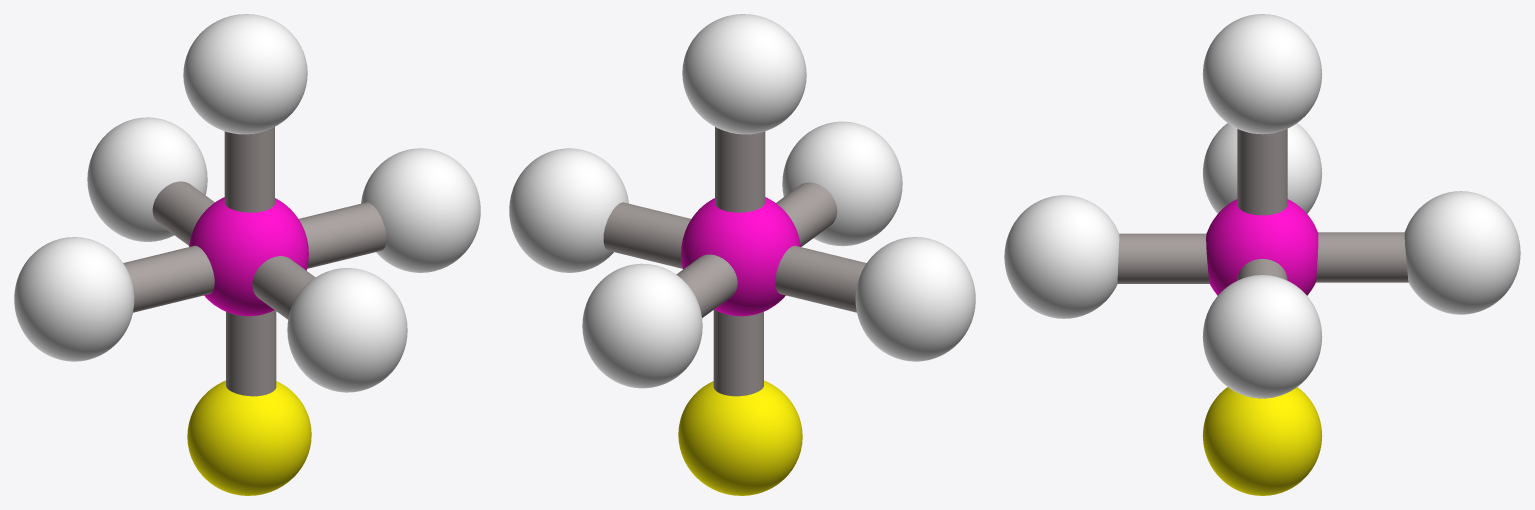
File: squarepyramidal.fbx
3 renders of one model, left to right at view 1: azimuth 30°, elevation 25°; view 2: azimuth 150°, elevation 25°; view 3: azimuth 270°, elevation 25°, orthographic.
Visible parts, largest first — view 1: root (×16); view 2: root (×16); view 3: root (×12).
Part boxes in pixels (x1,y1,x2,y2): root (×16): [14, 14, 480, 495]; root (×16): [509, 14, 975, 495]; root (×12): [1004, 14, 1520, 495].
Bounding box in the file's own units: 0.6641 × 0.6641 × 0.6641.
7 materials, 7 textured.
